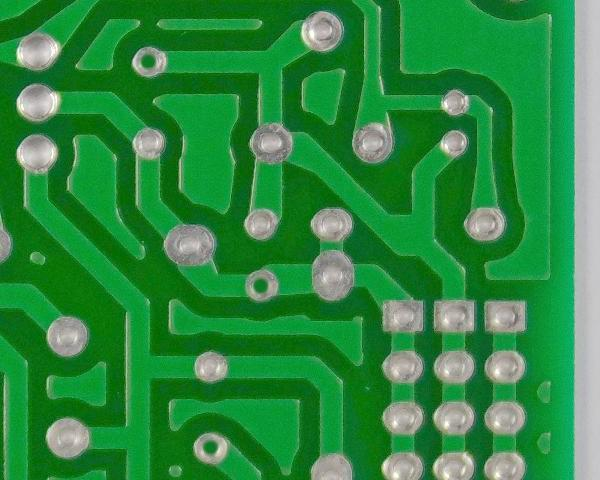missing hole: (242, 264, 284, 309), (185, 429, 232, 468), (128, 40, 170, 81)
